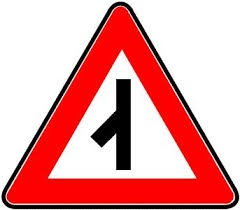Fork_road: (1, 1, 240, 208)
